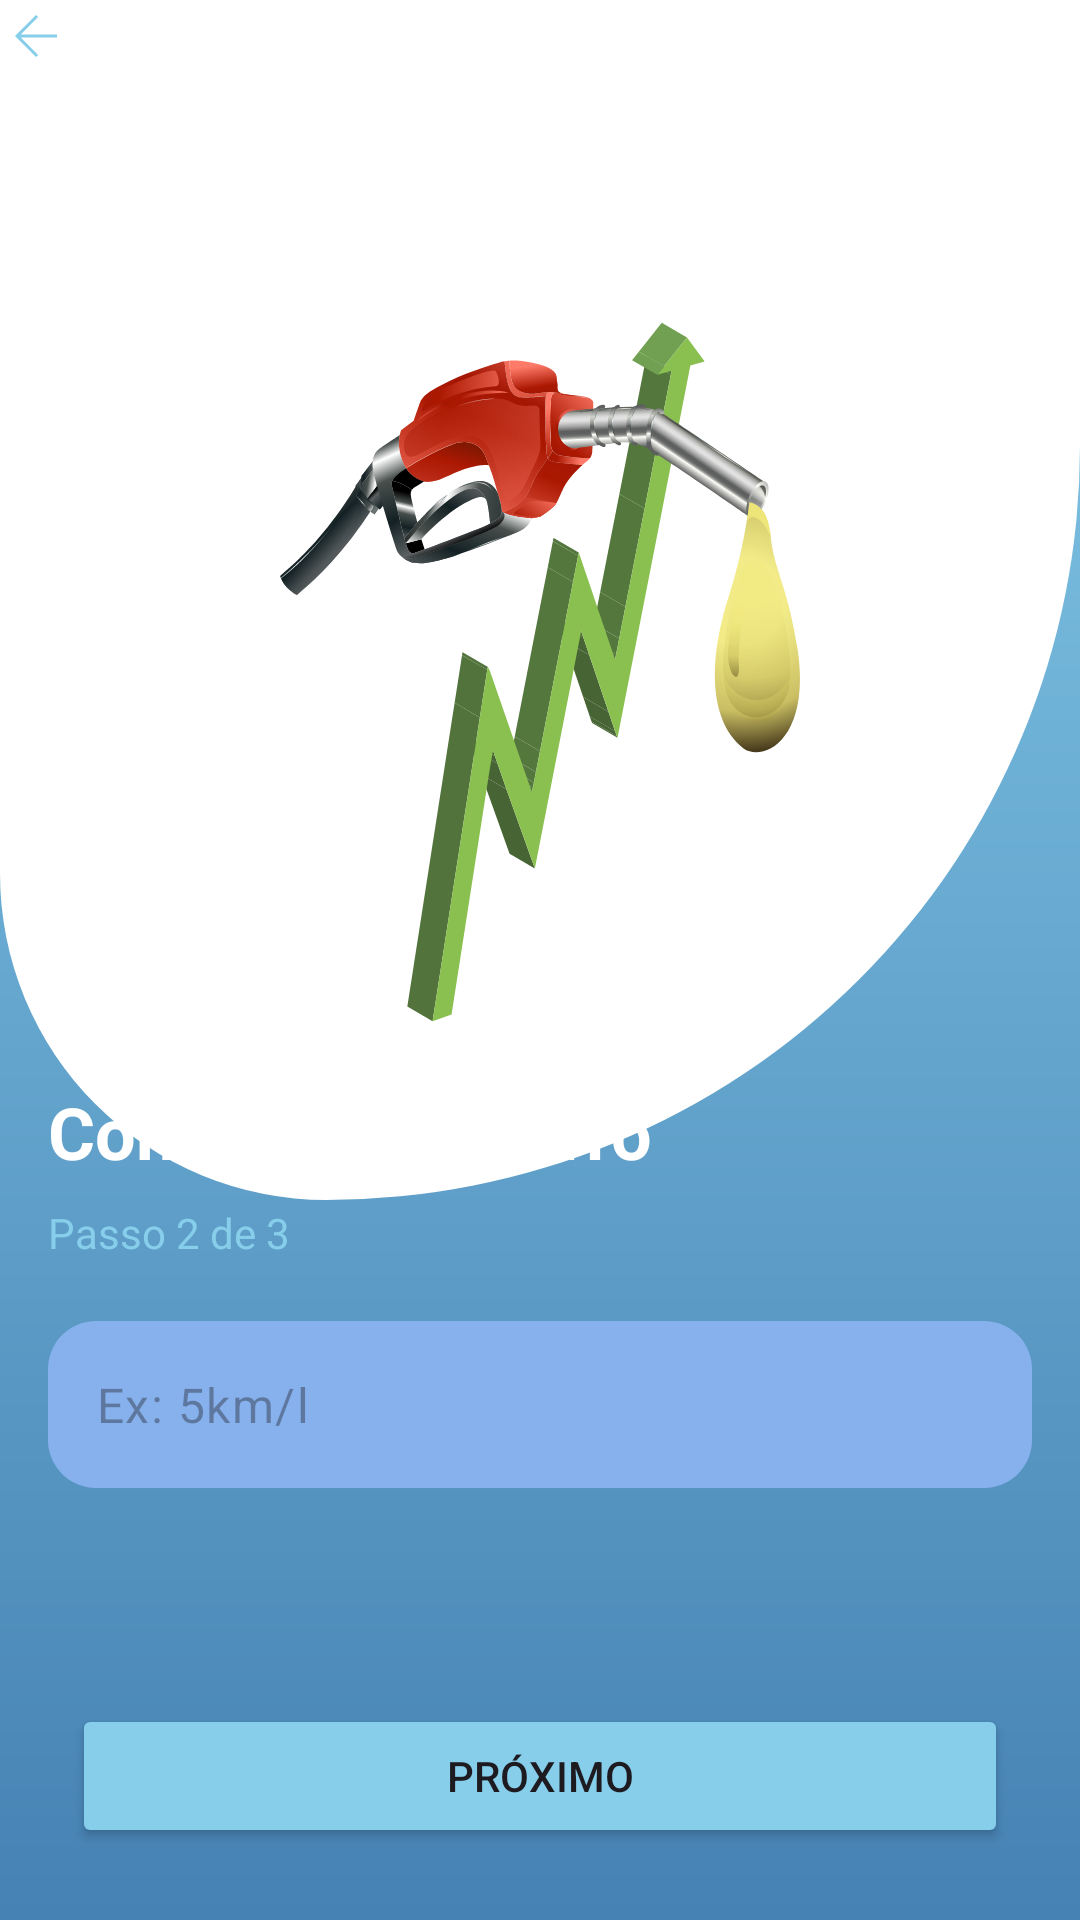

Screen size 1080w x 1920h. Icon name, then its box in pixels as (x1,y1,x2,y2):
arrow back: (15,15,57,57)
